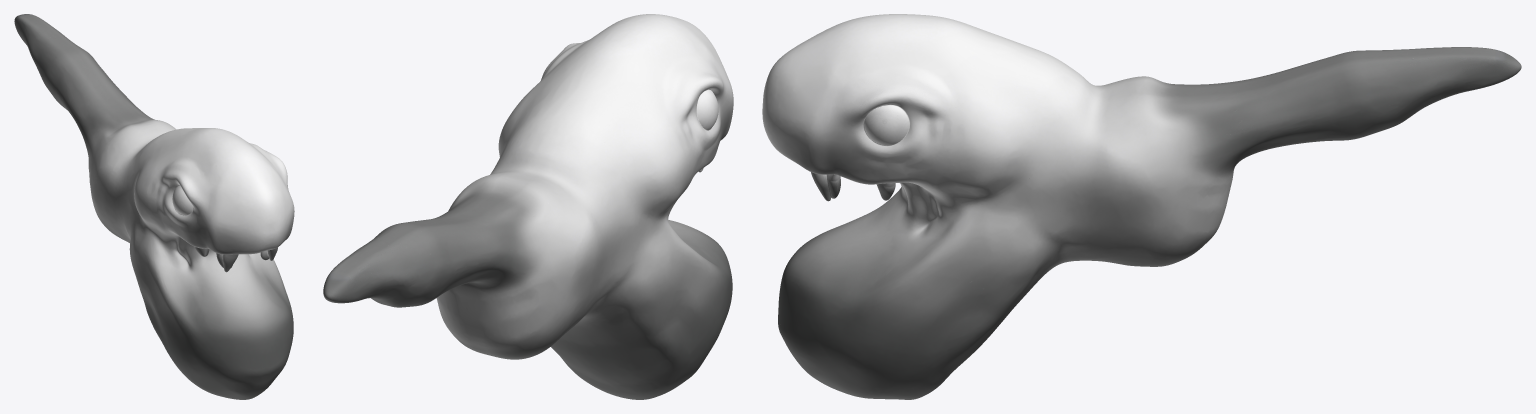
File: generated_monster.glb
3 renders of one model, left to right at view 1: azimuth 30°, elevation 25°; view 2: azimuth 150°, elevation 25°; view 3: azimuth 270°, elevation 25°, orthographic. The views are drawn at different scales.
Size of the model in its own units: 0.5174 by 1.04 by 1.9.
1 material, 1 textured.
